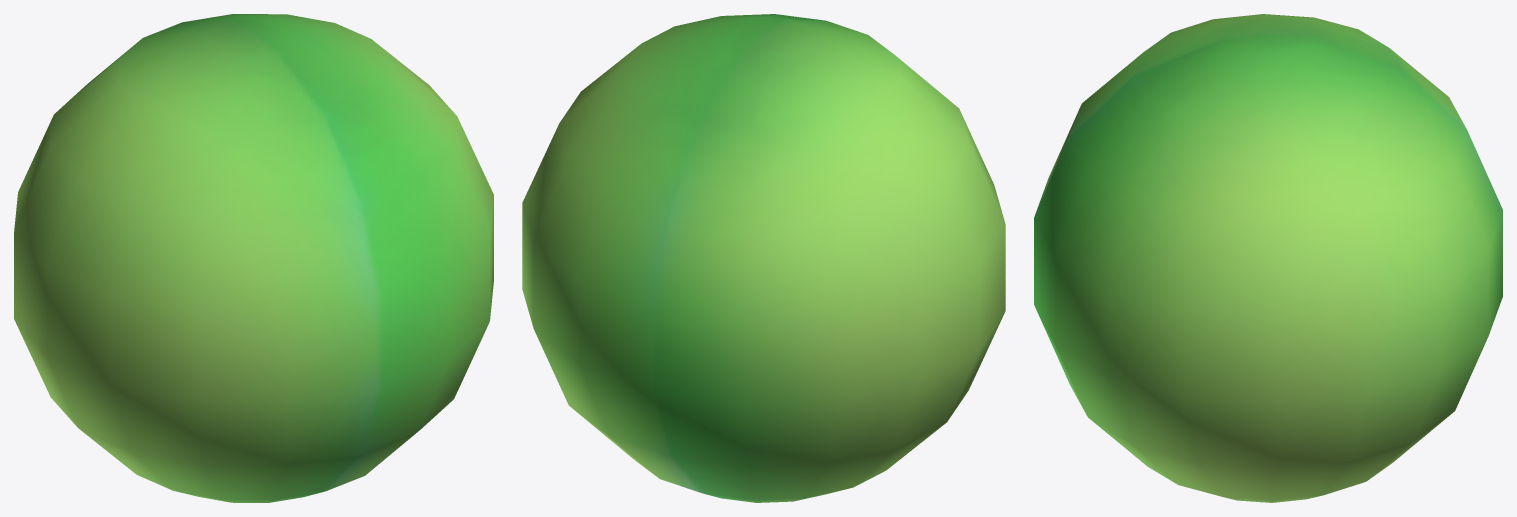
The model's file is SM_Gem_A_Bronze.fbx.
3 views of the same model, side by side, from view 1: azimuth 30°, elevation 25°; view 2: azimuth 150°, elevation 25°; view 3: azimuth 270°, elevation 25° (orthographic).
Parts seen in each view (by area): view 1: SM_Gem_A_Bronze_LOD0; view 2: SM_Gem_A_Bronze_LOD0; view 3: SM_Gem_A_Bronze_LOD0.
Boxes of the visible parts, left/top/right/bottom form: SM_Gem_A_Bronze_LOD0: left=14, top=14, right=493, bottom=502; SM_Gem_A_Bronze_LOD0: left=522, top=14, right=1005, bottom=502; SM_Gem_A_Bronze_LOD0: left=1034, top=14, right=1502, bottom=502.
Size of the model in its own units: 4.38 by 4.23 by 4.43.
1 material, 1 textured.
